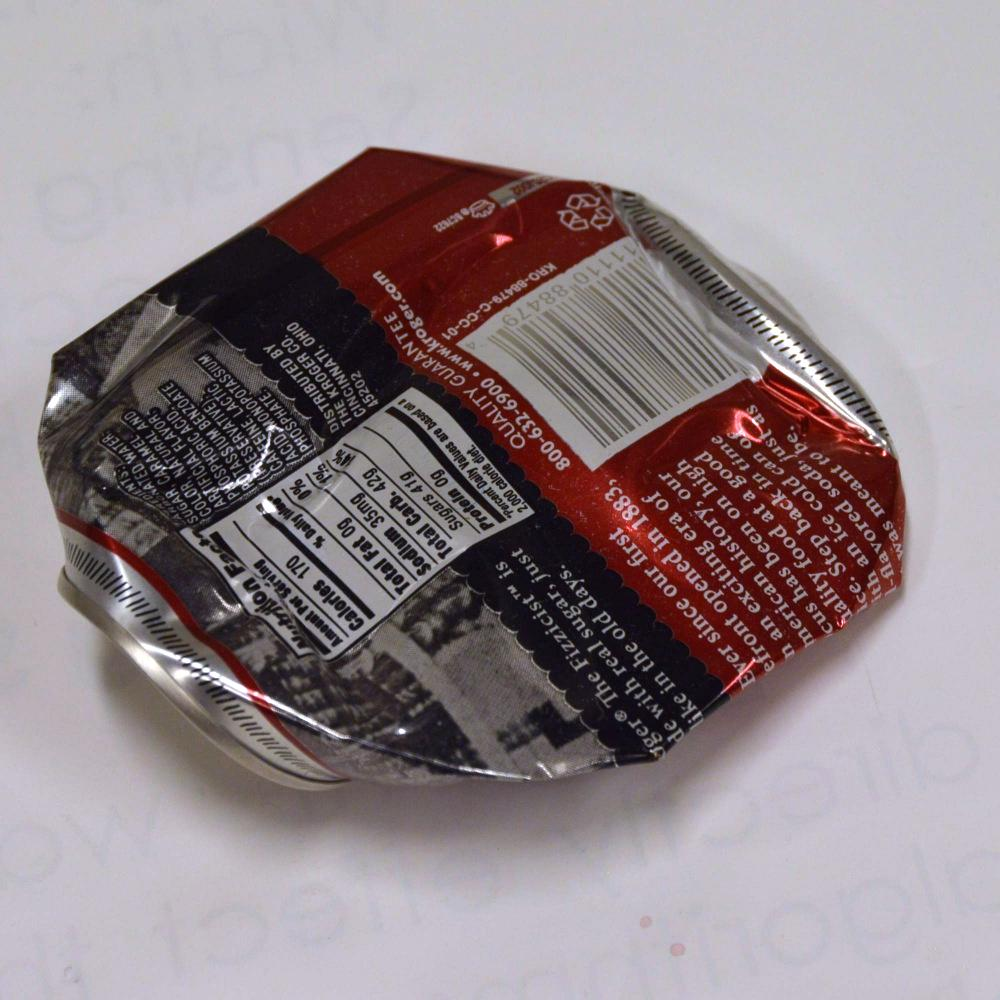Metal: (18, 115, 903, 868)
